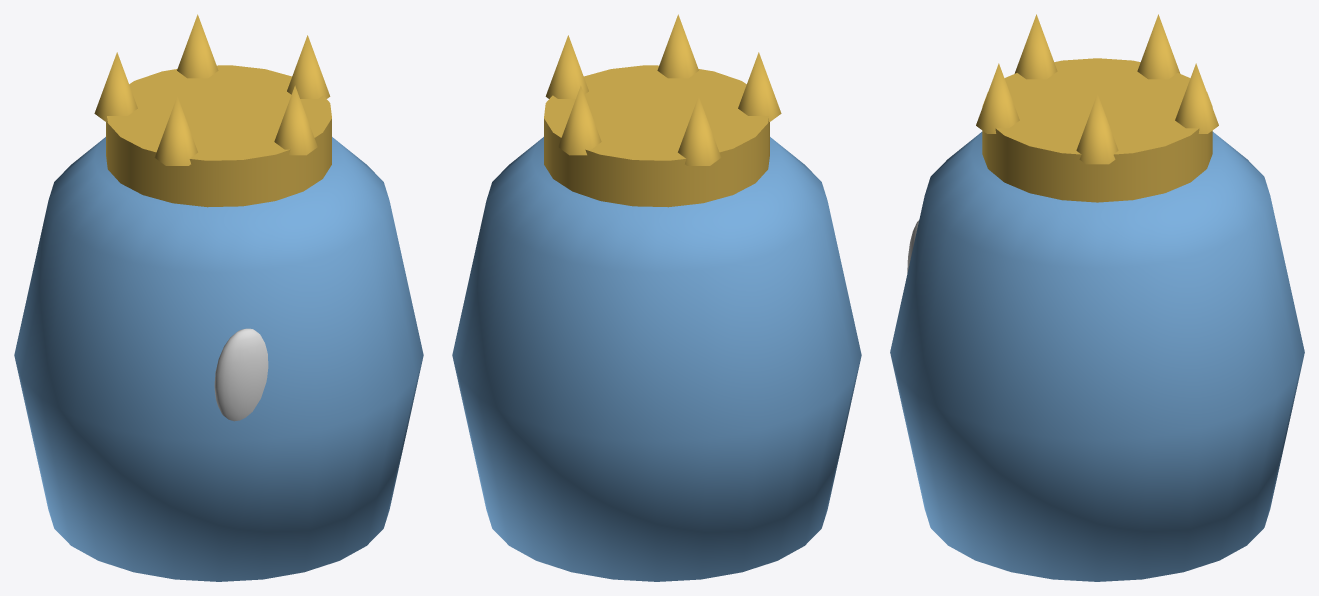
Rendered from mat_royaljelly.glb.
3 renders of one model, left to right at view 1: azimuth 30°, elevation 25°; view 2: azimuth 150°, elevation 25°; view 3: azimuth 270°, elevation 25°, orthographic.
Parts seen in each view (by area): view 1: _cone; view 2: _cone; view 3: _cone.
Boxes of the visible parts, x1=… form: _cone: x1=14, y1=14, x2=423, y2=581; _cone: x1=452, y1=14, x2=861, y2=581; _cone: x1=890, y1=14, x2=1304, y2=581.
Bounding box in the file's own units: 0.72 × 0.88 × 0.72.
